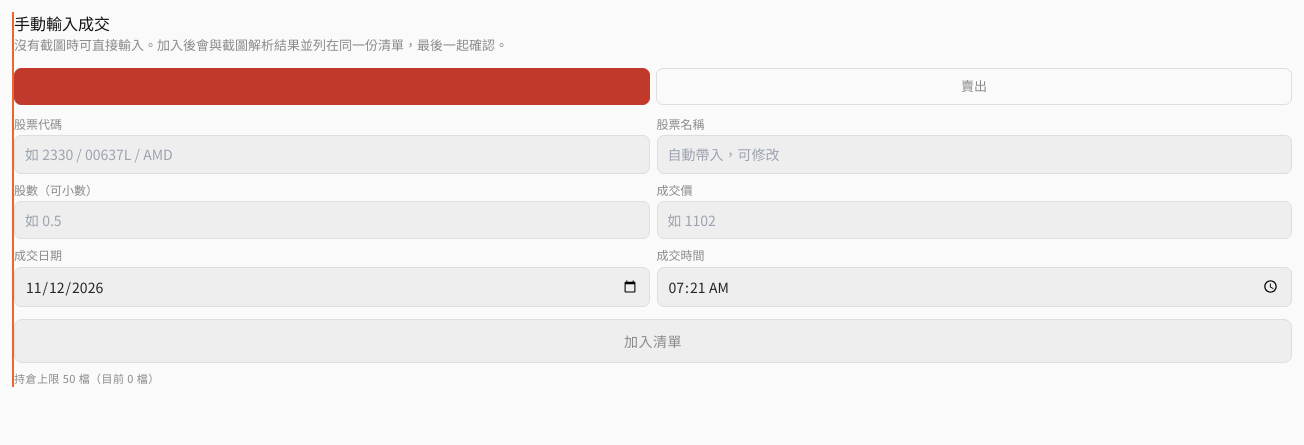
Test: T3 — code/name race、錯誤時機、input step、demo 0 mutation › 未按送出前不顯示任何錯誤；按下才顯示
Clear the field named "股數" at (332, 220), box x1=14 y1=201 x2=650 y2=239
Click the button with aria-label "加入這筆成交".
click(653, 341)  # box x1=14 y1=319 x2=1292 y2=363
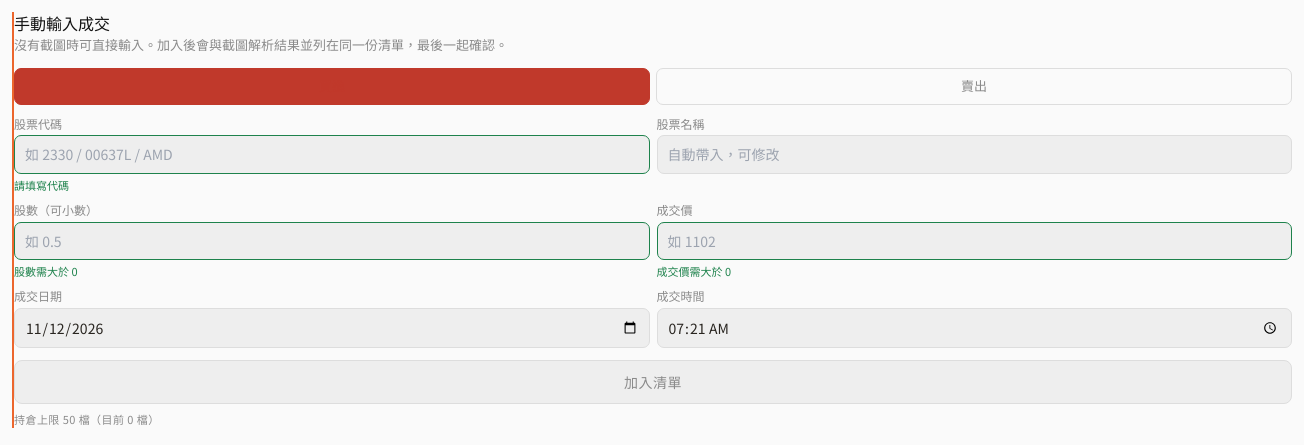
Now the message "請填寫代碼" is shown, box x1=14 y1=176 x2=69 y2=192
